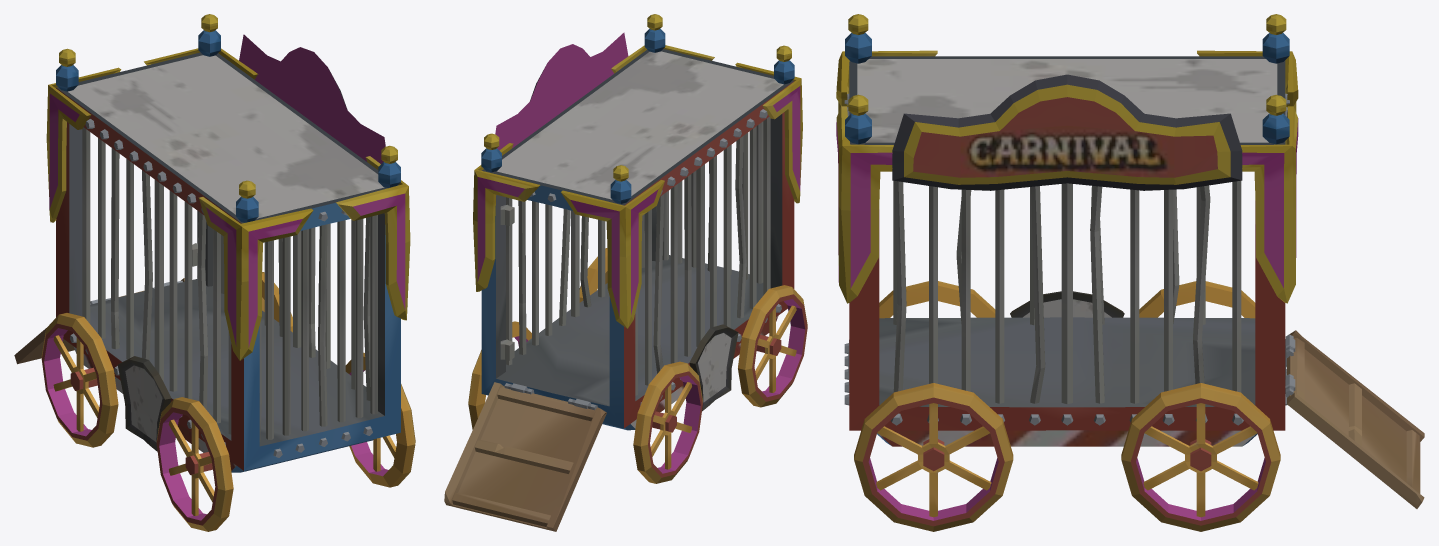
File: SM_Veh_Wagon_Cage_01.glb
3 views of the same model, side by side, from view 1: azimuth 30°, elevation 25°; view 2: azimuth 150°, elevation 25°; view 3: azimuth 270°, elevation 25° (orthographic). The views are drawn at different scales.
Parts seen in each view (by area): view 1: SM_Veh_Wagon_Cage_01; view 2: SM_Veh_Wagon_Cage_01; view 3: SM_Veh_Wagon_Cage_01.
Boxes of the visible parts, <box> form: SM_Veh_Wagon_Cage_01: <box>14,14,415,531</box>; SM_Veh_Wagon_Cage_01: <box>444,14,807,531</box>; SM_Veh_Wagon_Cage_01: <box>836,14,1424,531</box>.
Bounding box in the file's own units: 231 × 435 × 513.
1 material, 1 textured.
